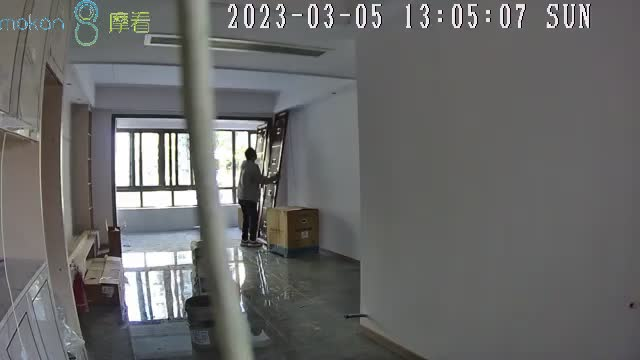people: (238, 147, 272, 248)
window: (111, 114, 269, 212)
